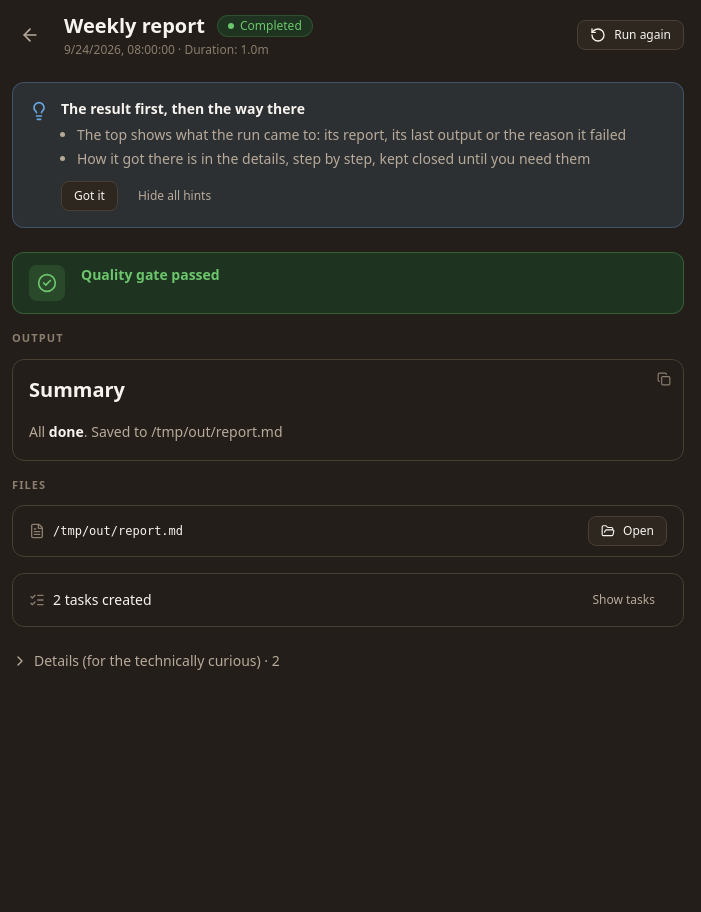
Scenario: SimpleWorkflowExecution › shows the last output without a report, and never provider/model pills — not even in the details
Check: the heading "Summary" is shown, box [29, 376, 125, 402]
Check: the element with test id "run-result-output" does not show "gate_status", box [29, 376, 282, 440]
Click the button "Details (for the technically curious) · 2": click(146, 661) [12, 651, 280, 671]
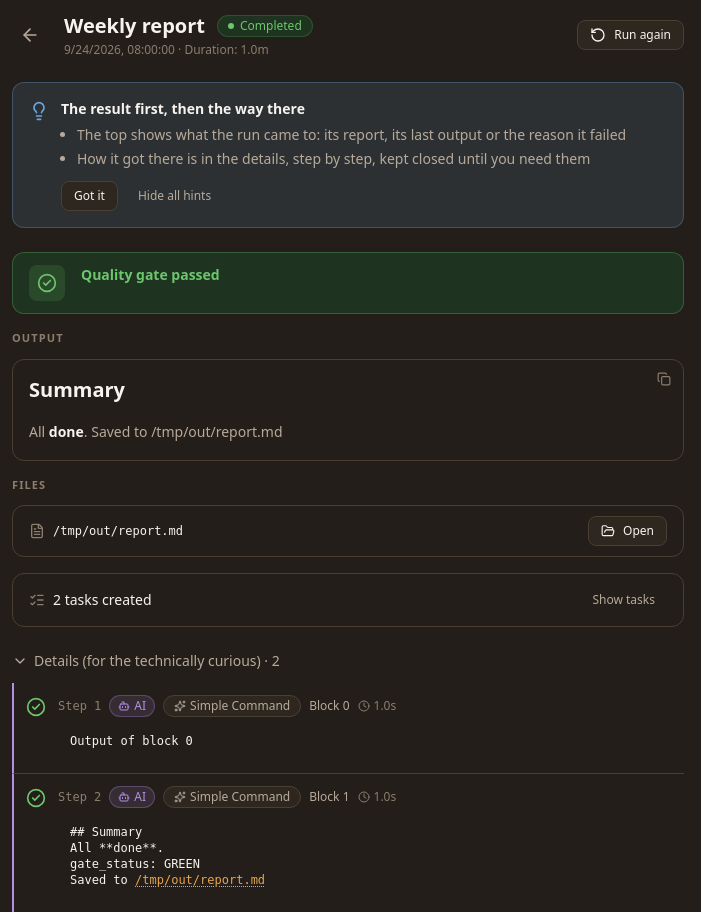
Check: the text "Output of block 0" is shown, box [58, 721, 684, 761]
